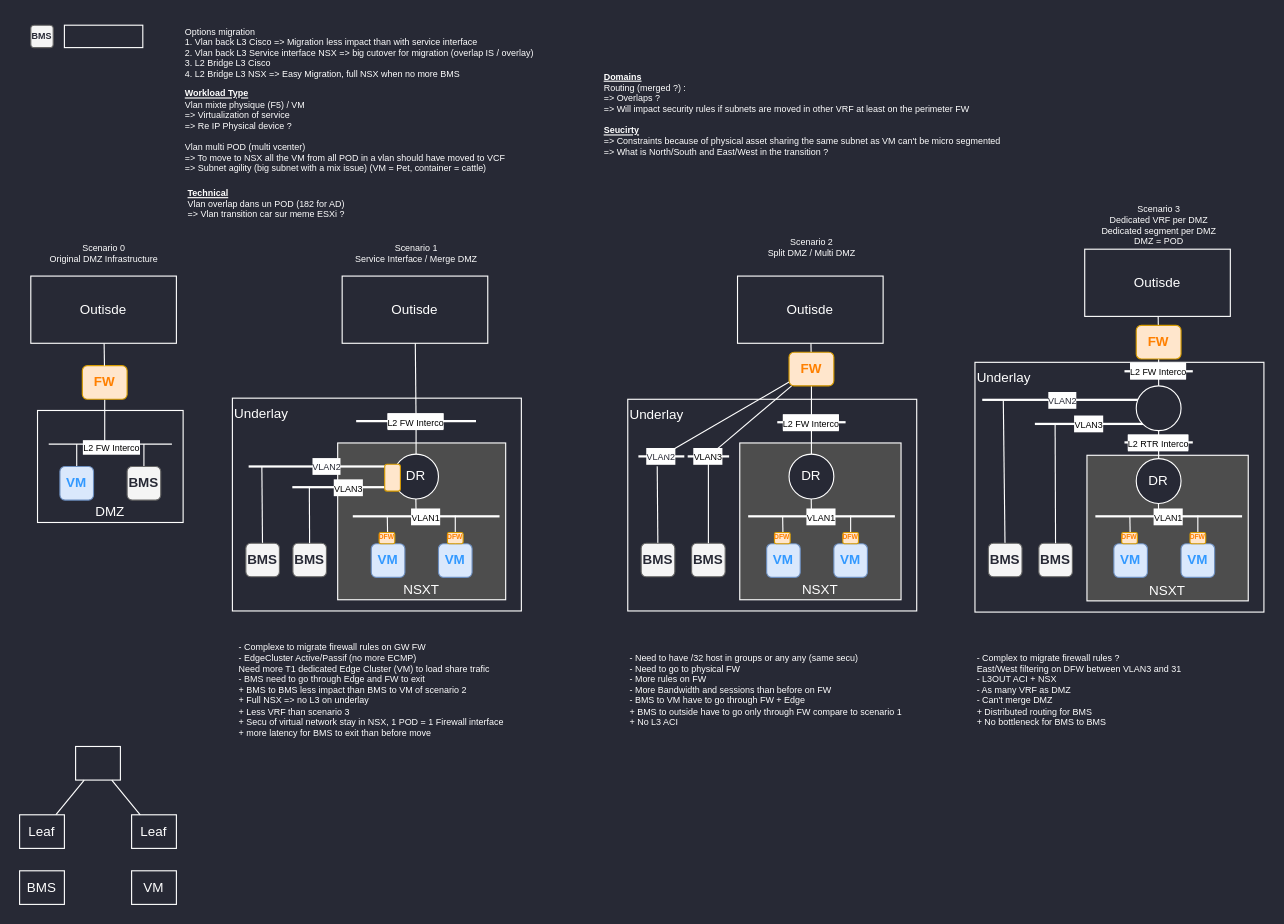
Image size: 1284x924. Some labels were removed from this diagram. Here are the shapes that lost their labels. From the top down, the centre of each, then its label:
the point at 103,36: Physical Server
the point at 1158,408: VRF
the point at 392,477: GW FW
the point at 97,762: Spine
